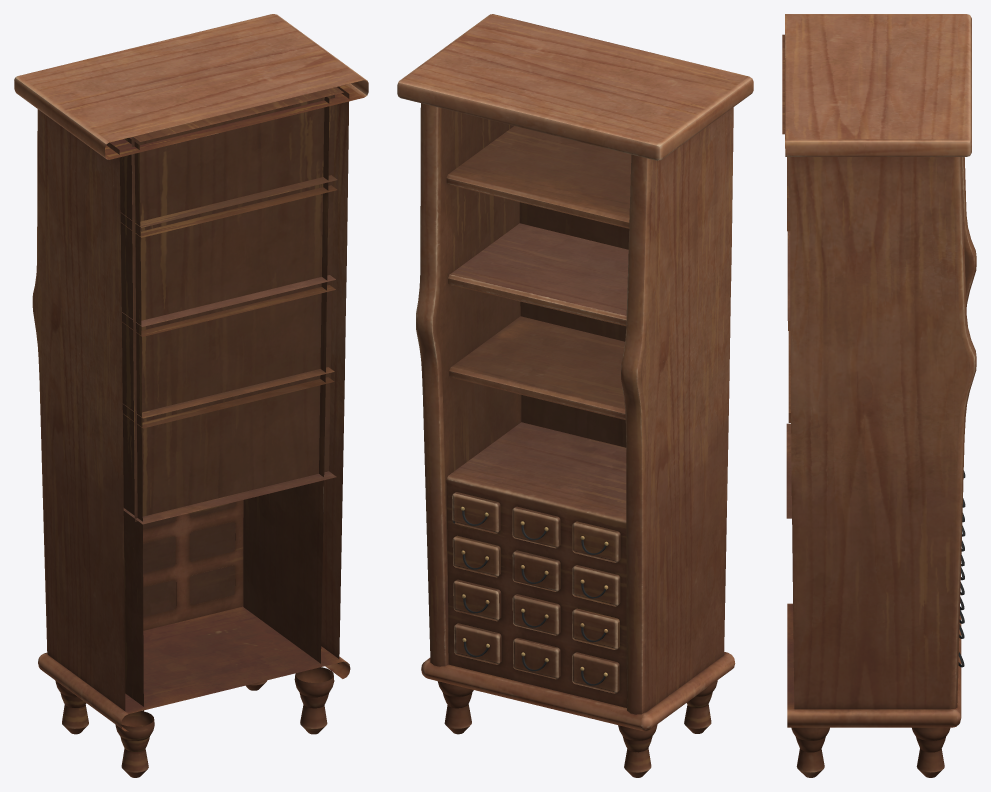
The model's file is SM_WardRobe_01.fbx.
The picture shows the model from 3 angles, left to right: view 1: azimuth 30°, elevation 25°; view 2: azimuth 150°, elevation 25°; view 3: azimuth 270°, elevation 25°; orthographic projection.
Visible parts, largest first — view 1: SM_WardRobe_01_LOD0; view 2: SM_WardRobe_01_LOD0; view 3: SM_WardRobe_01_LOD0.
Part boxes in pixels (x1,y1,x2,y2): SM_WardRobe_01_LOD0: (14,14,368,777); SM_WardRobe_01_LOD0: (397,14,753,777); SM_WardRobe_01_LOD0: (782,14,976,777).
Bounding box in the file's own units: 105 × 66.62 × 247.
Materials: 1 (1 with a texture image).
